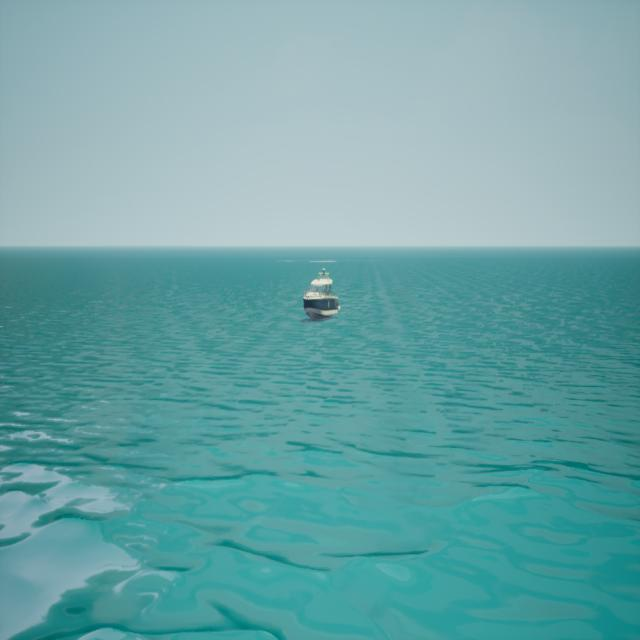ship: (302, 266, 339, 319)
